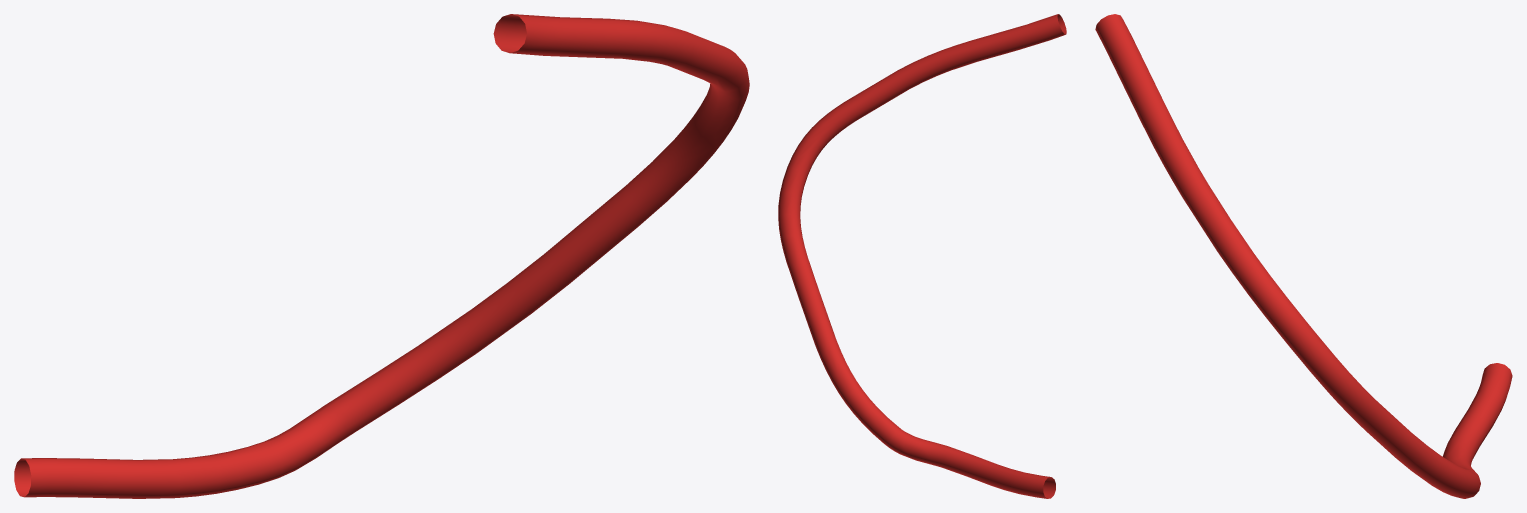
Rendered from circulatorio-dorsal-carpal-branch-of-ulnar-artery-r.glb.
The picture shows the model from 3 angles, left to right: view 1: azimuth 30°, elevation 25°; view 2: azimuth 150°, elevation 25°; view 3: azimuth 270°, elevation 25°; orthographic projection. The views are drawn at different scales.
Parts seen in each view (by area): view 1: Dorsal carpal branch of ulnar artery.r; view 2: Dorsal carpal branch of ulnar artery.r; view 3: Dorsal carpal branch of ulnar artery.r.
Part boxes in pixels (x1=…): Dorsal carpal branch of ulnar artery.r: x1=14, y1=14, x2=749, y2=498; Dorsal carpal branch of ulnar artery.r: x1=778, y1=14, x2=1066, y2=498; Dorsal carpal branch of ulnar artery.r: x1=1095, y1=14, x2=1512, y2=498.
Size of the model in its own units: 0.0243 by 0.0246 by 0.0195.
